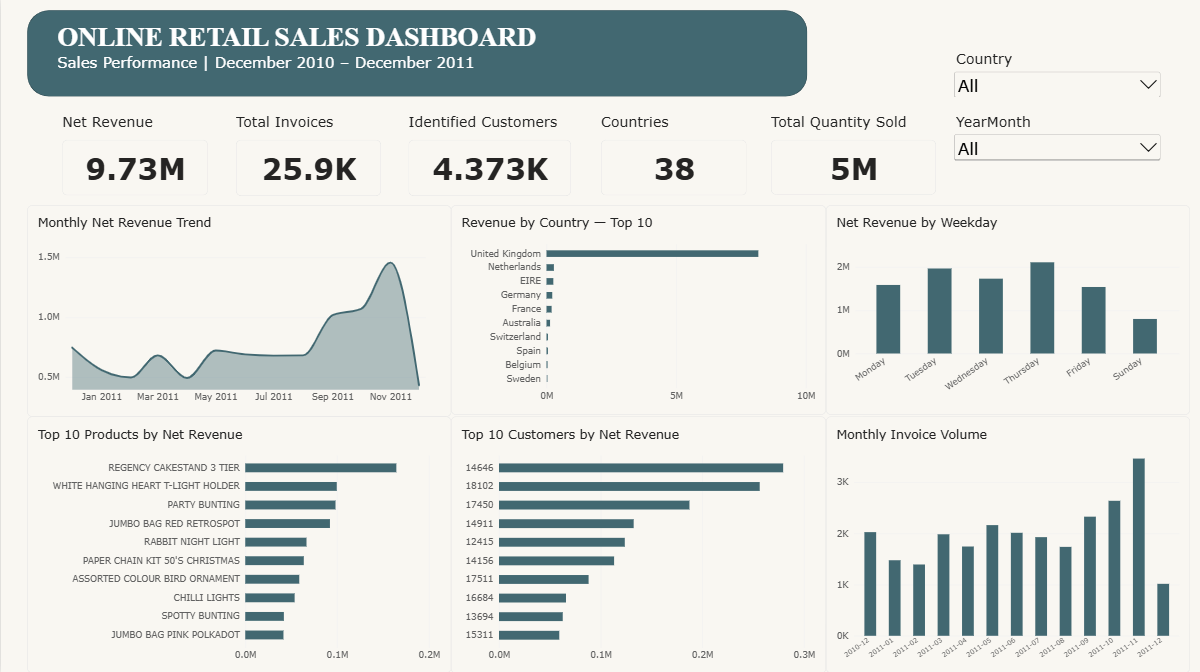

The dashboard page shown, as its layout file describes it:
{"tool":"powerbi","page":{"name":"Page 1","canvas":[1920,1080],"ordinal":0},"visuals":[{"type":"shape","box":[42,18,1248,138],"z":0},{"type":"textbox","box":[90,36,770,100],"z":1000},{"type":"cardVisual","title":"Net Revenue","fields":{"Data":["Sum(cleaned_online_retail.Revenue)"]},"box":[98.8,182.5,233.8,132.5],"z":2000},{"type":"cardVisual","title":"Total Invoices","fields":{"Data":["Count(cleaned_online_retail.InvoiceNo)"]},"box":[375,182.5,232.5,133.8],"z":3000},{"type":"cardVisual","title":"Identified Customers","fields":{"Data":["Count(cleaned_online_retail.CustomerID)"]},"box":[651.2,182.5,235,132.5],"z":4000},{"type":"cardVisual","title":"Countries","fields":{"Data":["Count(cleaned_online_retail.Country)"]},"box":[930,182.5,233.8,132.5],"z":5000},{"type":"lineChart","title":"Monthly Net Revenue Trend","fields":{"Category":["cleaned_online_retail.InvoiceDate.Variation.Date Hierarchy.Year","cleaned_online_retail.InvoiceDate.Variation.Date Hierarchy.Month"],"Y":["Sum(cleaned_online_retail.Revenue)"]},"box":[42,330,678,338],"z":6000},{"type":"clusteredBarChart","title":"Revenue by Country — Top 10","fields":{"Category":["cleaned_online_retail.Country"],"Y":["Sum(cleaned_online_retail.Revenue)"]},"box":[720,330,600,335],"z":7000},{"type":"clusteredBarChart","title":"Top 10 Products by Net Revenue","fields":{"Category":["cleaned_online_retail.Description"],"Y":["Sum(cleaned_online_retail.Revenue)"]},"box":[42,668,678,412],"z":8000},{"type":"clusteredBarChart","title":"Top 10 Customers by Net Revenue","fields":{"Category":["cleaned_online_retail.CustomerID"],"Y":["Sum(cleaned_online_retail.Revenue)"]},"box":[720,668,600,412.5],"z":9000},{"type":"clusteredColumnChart","title":"Net Revenue by Weekday","fields":{"Category":["cleaned_online_retail.DayOfWeek"],"Y":["Sum(cleaned_online_retail.Revenue)"]},"box":[1320,330,582.5,335],"z":10000},{"type":"clusteredColumnChart","title":"Monthly Invoice Volume","fields":{"Category":["cleaned_online_retail.YearMonth"],"Y":["Count(cleaned_online_retail.InvoiceNo)"]},"box":[1320,668.3,582.5,411.7],"z":11000},{"type":"slicer","fields":{"Values":["cleaned_online_retail.Country"]},"box":[1520,82,340,74],"z":12000},{"type":"slicer","fields":{"Values":["cleaned_online_retail.YearMonth"]},"box":[1520,182,340,96],"z":13000},{"type":"cardVisual","title":"Total Quantity Sold","fields":{"Data":["Sum(cleaned_online_retail.Quantity)"]},"box":[1206,182,264,132],"z":14000}]}

Visuals, with their boxes in screenshot pixels (x1, y1, x2, y2), scaled from the page's 1920x1080 canvas onto the 1200x672 screenshot:
shape: 26/11/806/97
textbox: 56/22/538/85
"Net Revenue" cardVisual: 62/114/208/196
"Total Invoices" cardVisual: 234/114/380/197
"Identified Customers" cardVisual: 407/114/554/196
"Countries" cardVisual: 581/114/727/196
"Monthly Net Revenue Trend" lineChart: 26/205/450/416
"Revenue by Country — Top 10" clusteredBarChart: 450/205/825/414
"Top 10 Products by Net Revenue" clusteredBarChart: 26/416/450/671
"Top 10 Customers by Net Revenue" clusteredBarChart: 450/416/825/671
"Net Revenue by Weekday" clusteredColumnChart: 825/205/1189/414
"Monthly Invoice Volume" clusteredColumnChart: 825/416/1189/671
slicer - cleaned_online_retail.Country: 950/51/1162/97
slicer - cleaned_online_retail.YearMonth: 950/113/1162/173
"Total Quantity Sold" cardVisual: 754/113/919/195
